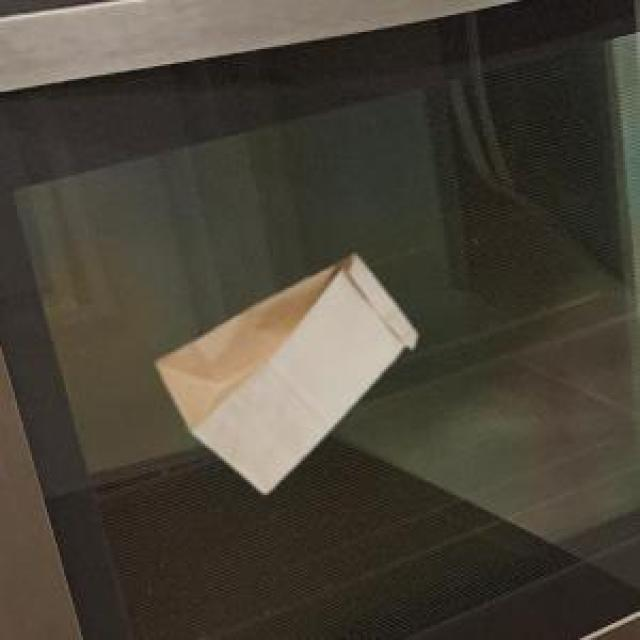paper: (152, 252, 410, 489)
